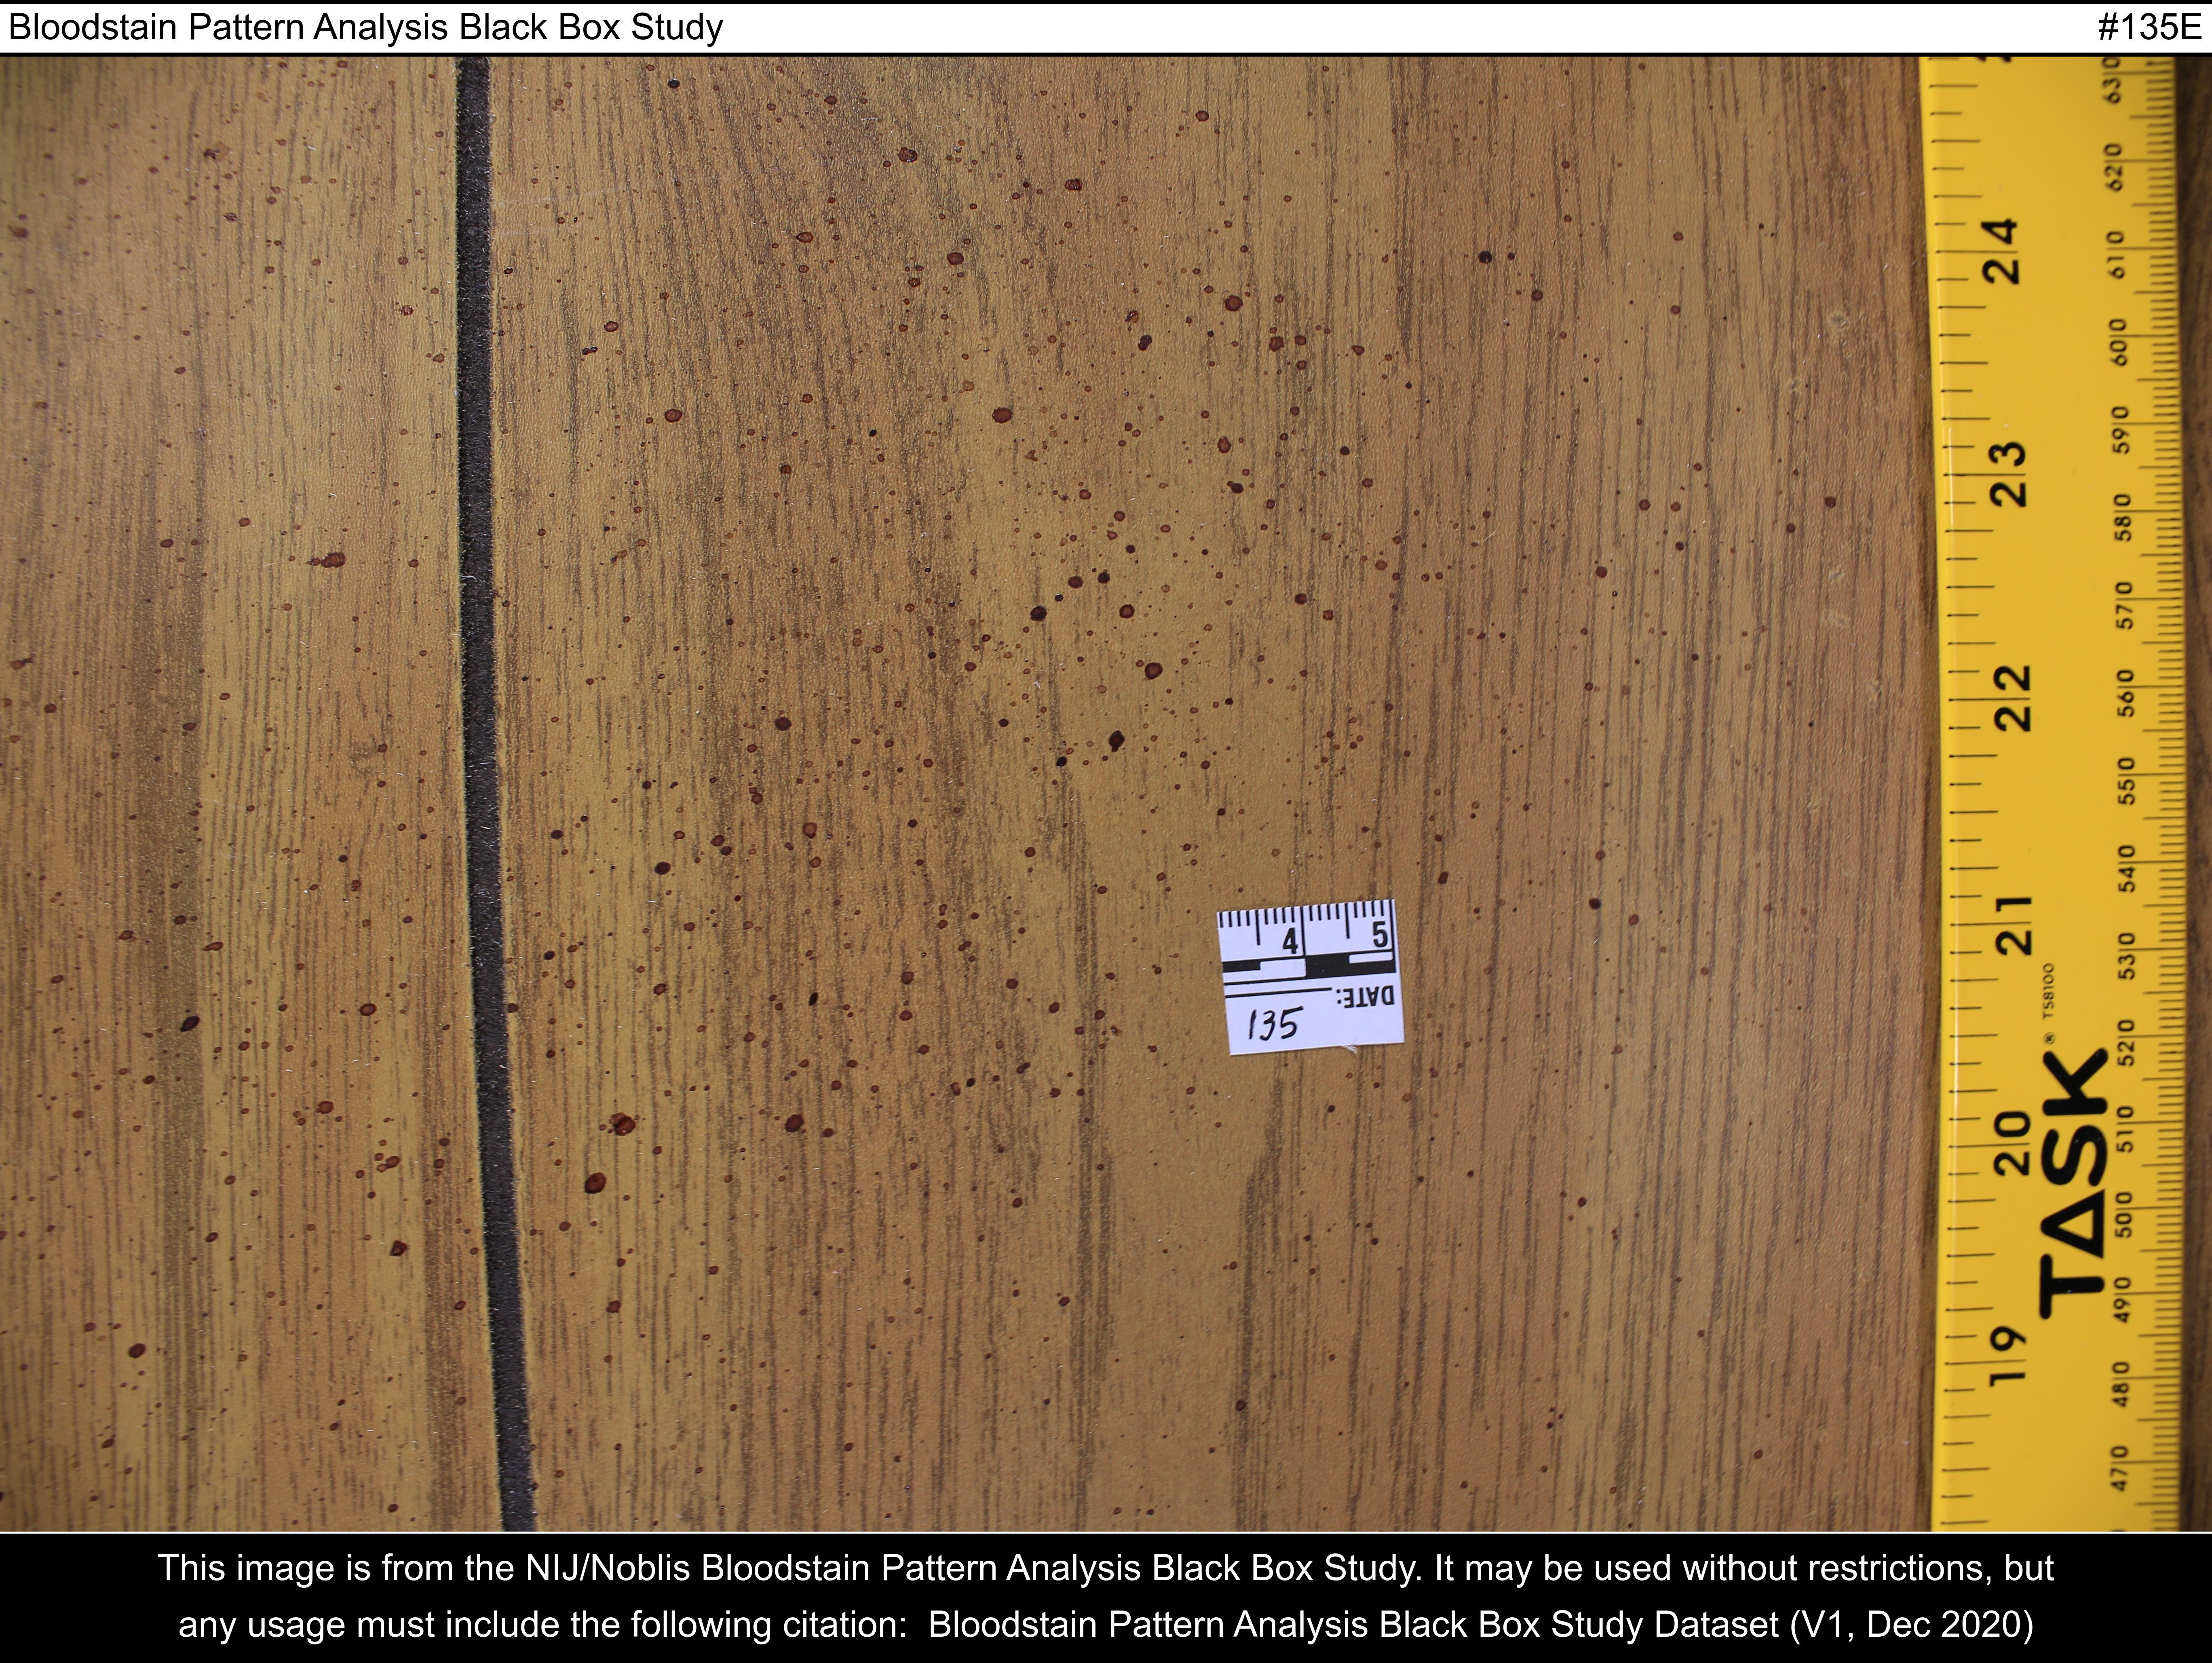Impact: (292, 900, 962, 1273)
